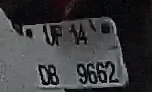1: (68, 24, 79, 46)
2: (106, 58, 120, 85)
4: (78, 23, 91, 45)
6: (86, 61, 97, 85), (96, 60, 107, 84)
9: (75, 62, 88, 84)
B: (49, 63, 61, 85)
D: (36, 64, 50, 85)
P: (53, 24, 64, 46)
U: (41, 24, 56, 48)
